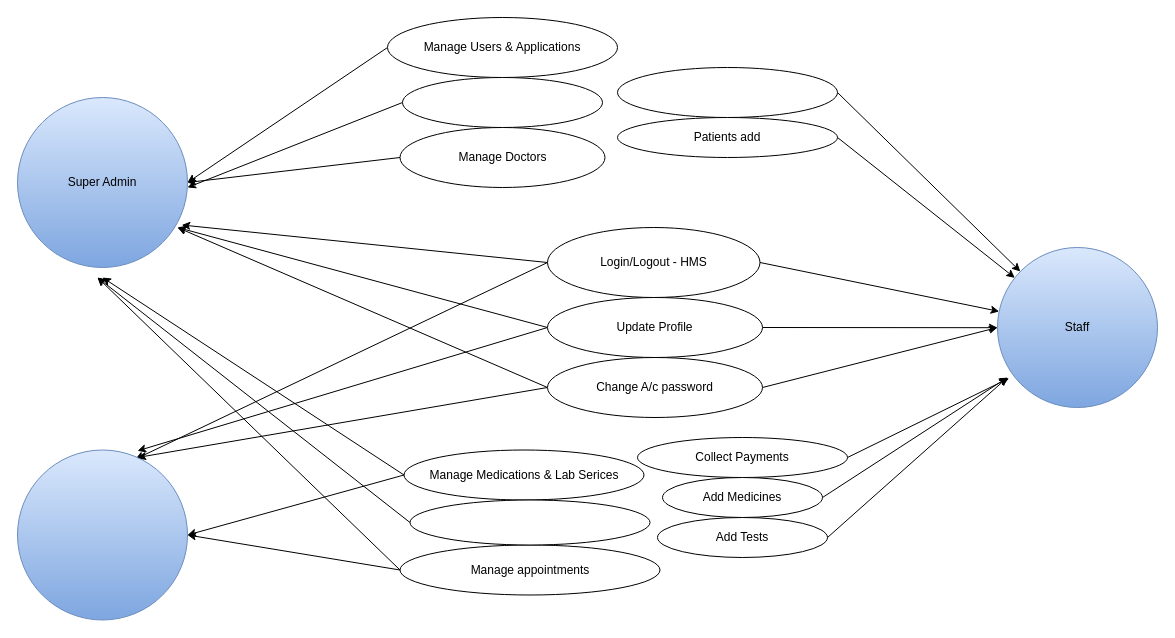
This 1175x638 diagram has some shape labels left out. The shapes that lost their labels are listed below. From the top down, each one's centre as x and y in pixels, then its label:
At (502,102): "Manage Hospital".
At (727,92): "Credit Appointments".
At (102,534): "System User".
At (529,522): "Manage Nurses".
